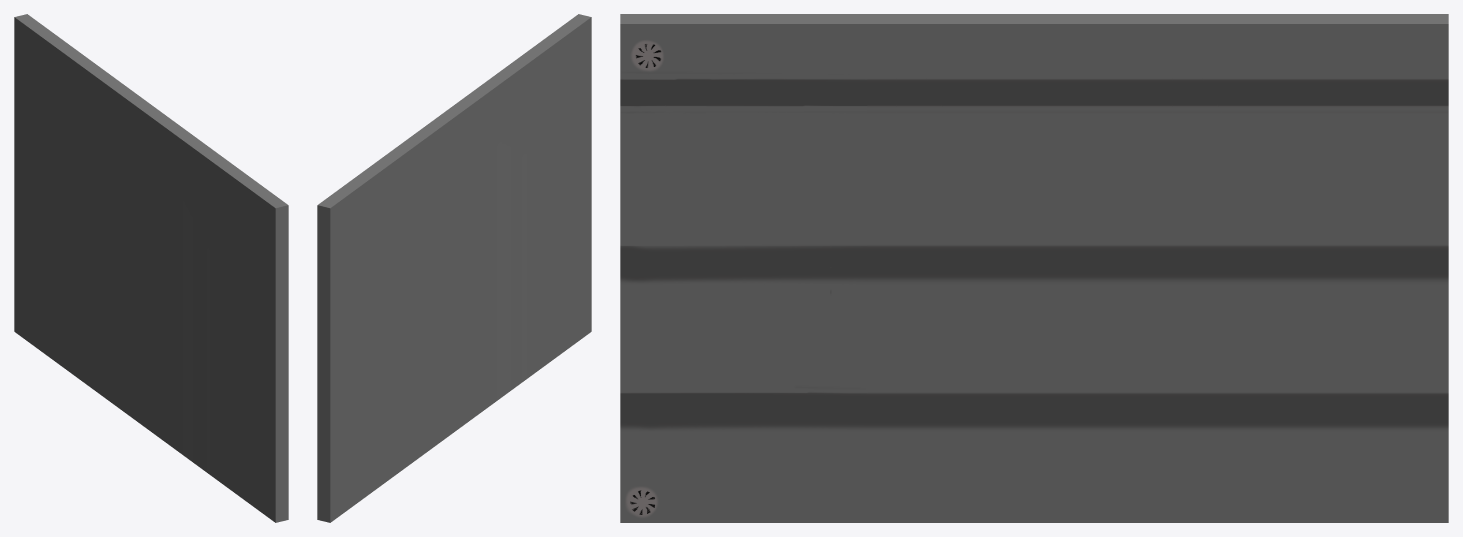
Rendered from wall 1.fbx.
The picture shows the model from 3 angles, left to right: view 1: azimuth 30°, elevation 25°; view 2: azimuth 150°, elevation 25°; view 3: azimuth 270°, elevation 25°; orthographic projection. The views are drawn at different scales.
Parts seen in each view (by area): view 1: Wall; view 2: Wall; view 3: Wall.
Boxes of the visible parts, x1,y1,x2,y2 form: Wall: (14,14,288,522); Wall: (317,14,591,522); Wall: (620,14,1448,522).
Size of the model in its own units: 24.88 by 582 by 876.
Materials: 1 (1 with a texture image).
